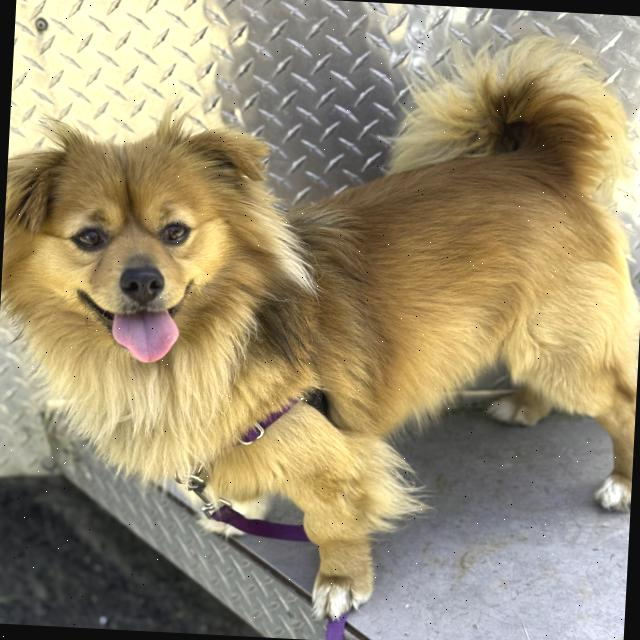pomeranian_dog: (0, 100, 331, 405)
